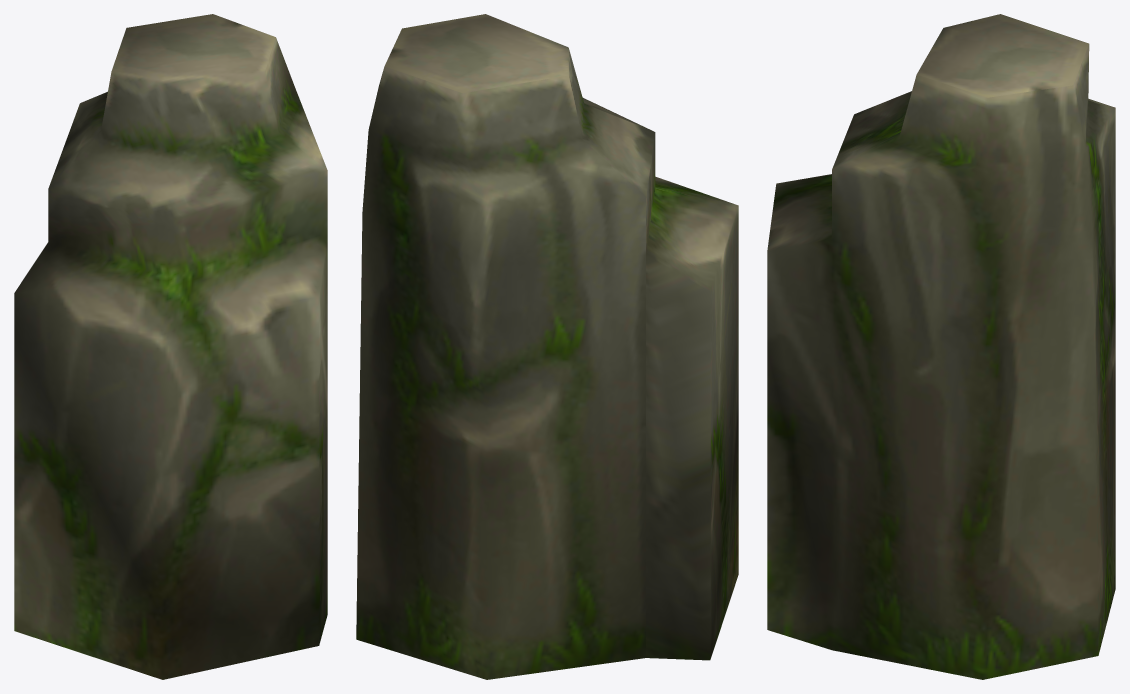
The model's file is RockFormation_4_5 (15).fbx.
3 renders of one model, left to right at view 1: azimuth 30°, elevation 25°; view 2: azimuth 150°, elevation 25°; view 3: azimuth 270°, elevation 25°, orthographic. The views are drawn at different scales.
Visible parts, largest first — view 1: RockFormation_4_5 (15); view 2: RockFormation_4_5 (15); view 3: RockFormation_4_5 (15).
Part boxes in pixels (x1,y1,x2,y2): RockFormation_4_5 (15): (14,14,327,679); RockFormation_4_5 (15): (356,14,738,679); RockFormation_4_5 (15): (767,14,1115,679).
Size of the model in its own units: 800 by 1290 by 724.
1 material, 1 textured.
